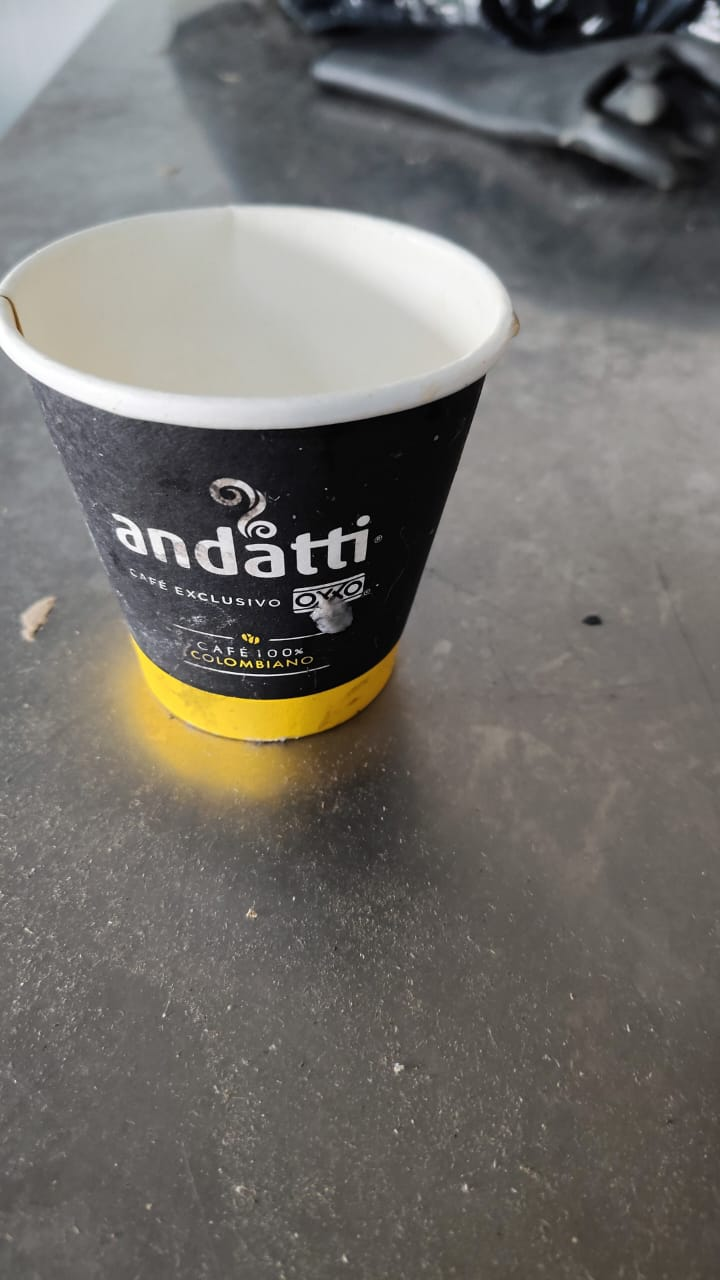Carton: (0, 204, 512, 743)
